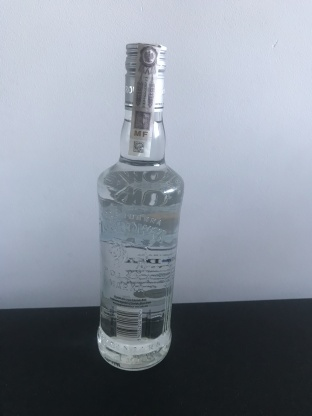nakretka: (122, 38, 169, 115)
